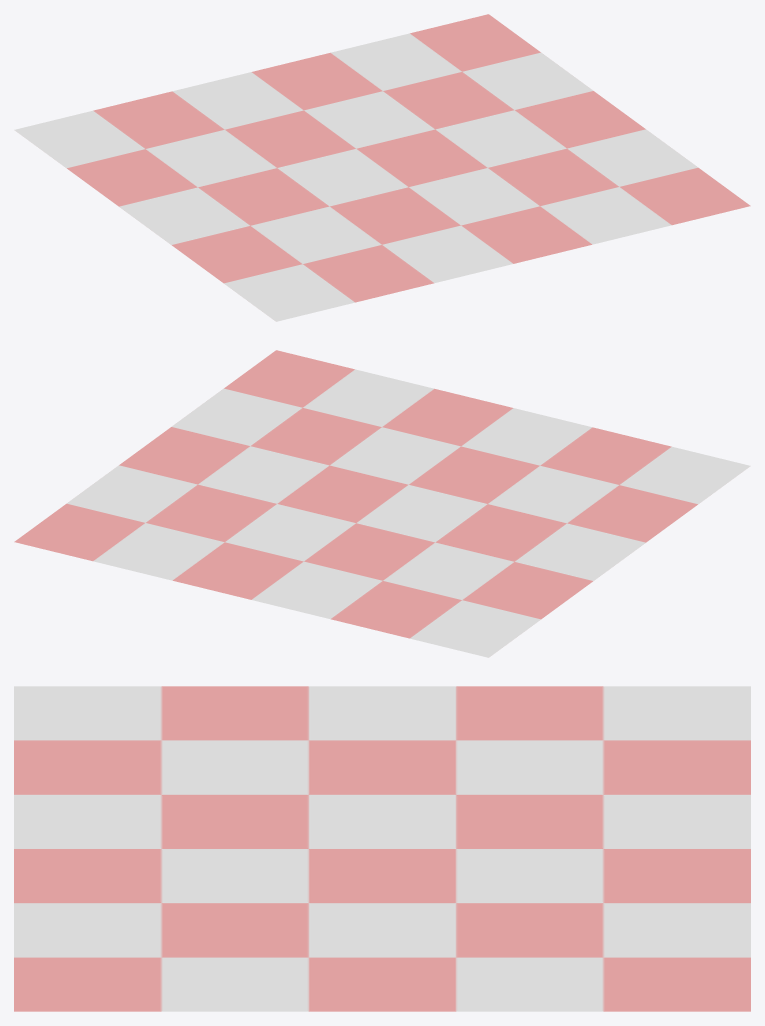
The model's file is blanket.glb.
3 renders of one model, top to bottom at view 1: azimuth 30°, elevation 25°; view 2: azimuth 150°, elevation 25°; view 3: azimuth 270°, elevation 25°, orthographic. The views are drawn at different scales.
Visible parts, largest first — view 1: pPlane1; view 2: pPlane1; view 3: pPlane1.
Part boxes in pixels (box(x1,y1,x2,y2)): pPlane1: box(14, 14, 750, 321); pPlane1: box(14, 350, 750, 657); pPlane1: box(14, 686, 750, 1011).
Bounding box in the file's own units: 0.8117 × 1.73e-16 × 0.7765.
Materials: 1 (1 with a texture image).
